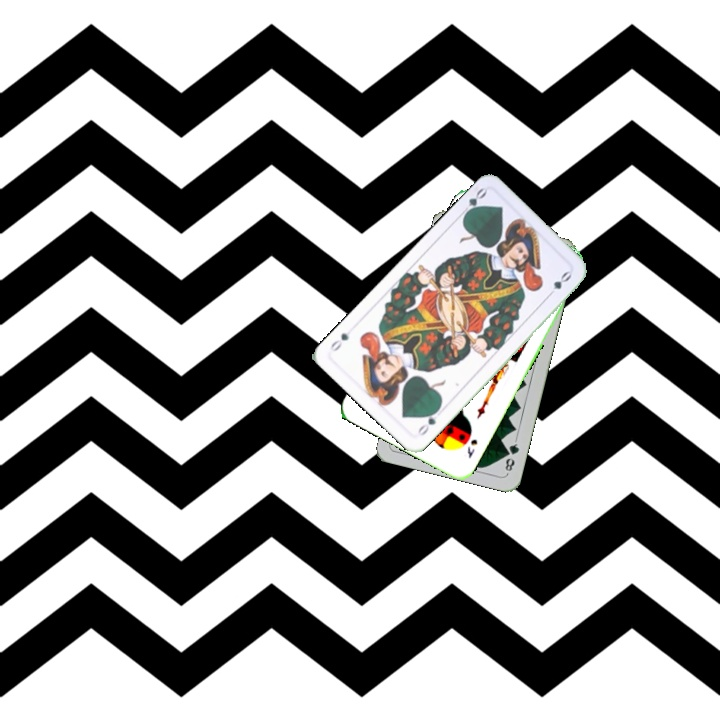G8: (501, 436, 522, 476)
GO: (456, 184, 490, 220), (414, 404, 442, 438)
SK: (463, 435, 480, 461)
